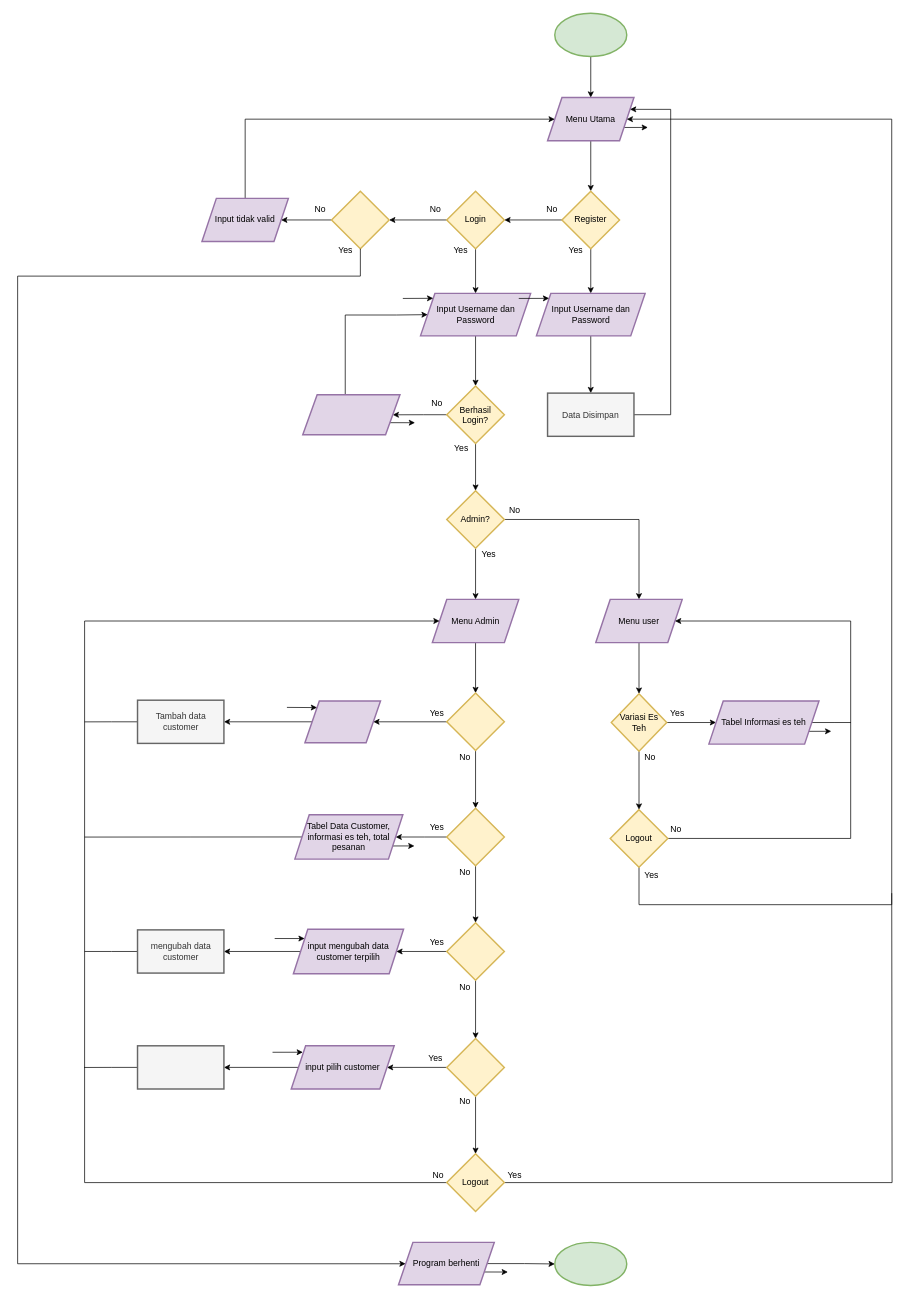
The diagram is 910 pixels wide and 1298 high, and some of its shapes have lost their labels. Here are the shapes that lost their labels. From the top down, the centre of each, then its label:
point (590, 34): Start
point (360, 219): Keluar
point (351, 414): Username atau password salah!
point (342, 721): input data customer
point (475, 721): Tambah Customer
point (475, 836): Tampilkan Customer
point (475, 951): Ubah Customer
point (180, 1067): Menghapus data customer
point (475, 1067): Hapus Customer
point (590, 1263): End
